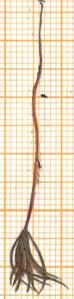flower: (0, 226, 71, 299)
root: (27, 0, 47, 97)
stem: (21, 97, 44, 230)
